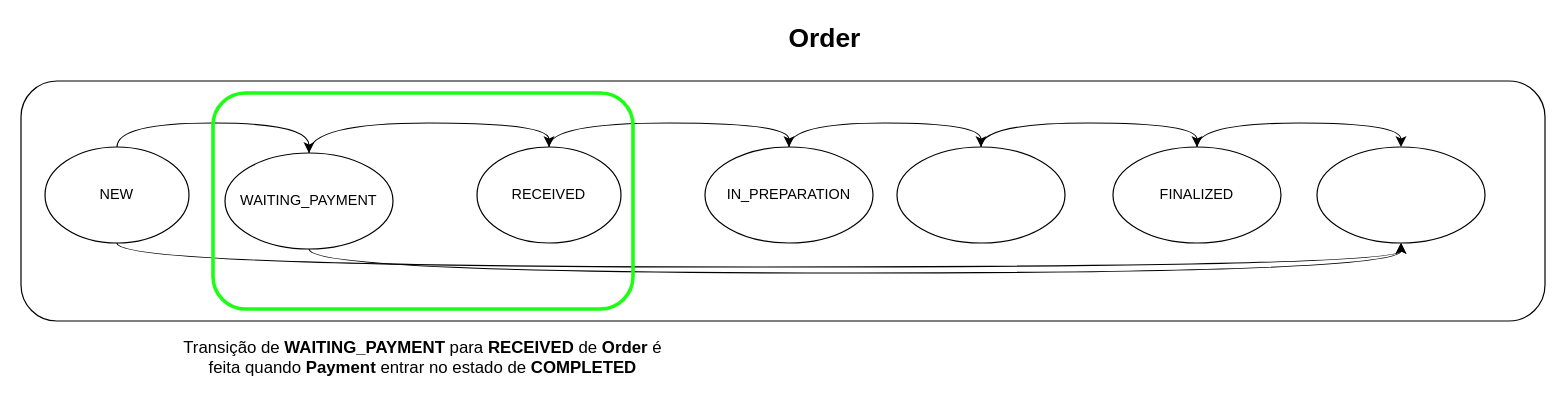
This 1566x413 diagram has some shape labels left out. Each missing label, with the box of its shape:
CANCELED: (1316, 146, 1485, 243)
READY: (896, 146, 1065, 243)
